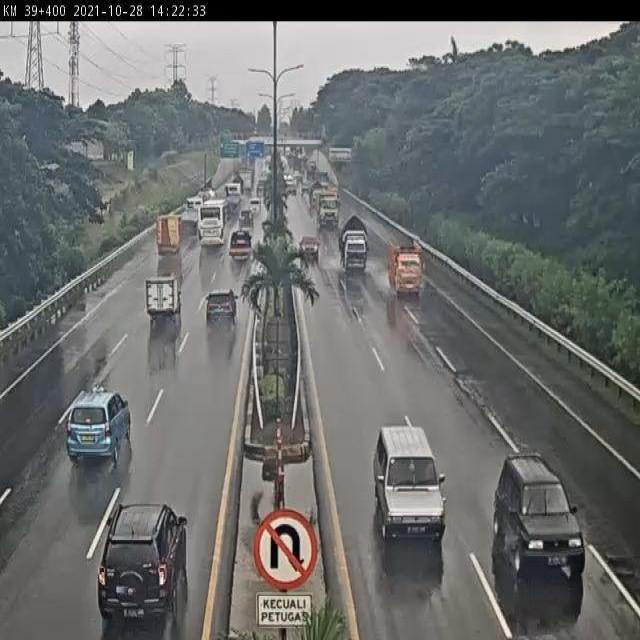bus-l-: (196, 201, 230, 252)
car: (491, 452, 589, 587), (96, 504, 190, 628), (373, 423, 445, 540), (66, 385, 134, 464), (145, 276, 184, 320), (203, 285, 238, 327), (299, 233, 320, 263), (233, 207, 255, 232)
truck-l-: (312, 185, 339, 227)
truck-s-: (386, 234, 425, 298), (337, 209, 371, 275), (156, 212, 182, 257), (228, 229, 254, 264)
